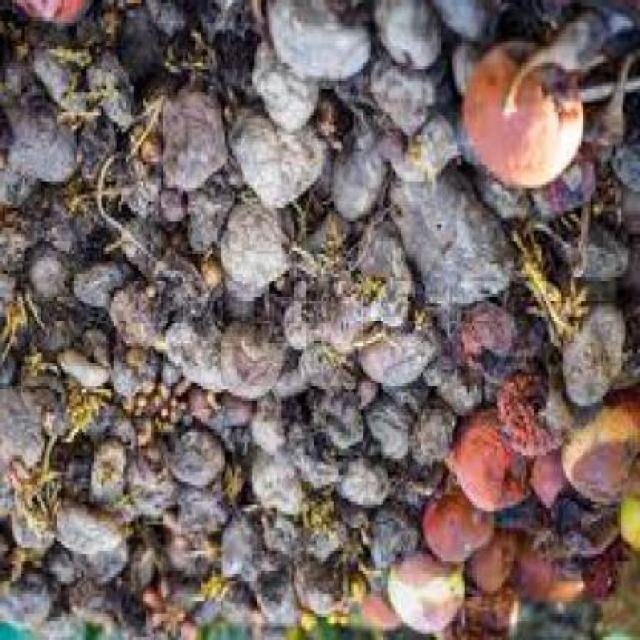BIODEGRADABLE: (1, 1, 638, 638), (388, 158, 514, 314), (466, 43, 586, 194), (502, 3, 638, 117), (227, 99, 328, 215), (452, 406, 534, 514), (516, 238, 596, 347), (269, 3, 374, 86), (124, 222, 210, 323), (563, 398, 639, 509), (218, 195, 300, 290), (160, 90, 232, 198), (358, 228, 428, 337), (2, 89, 80, 185), (390, 551, 470, 637), (462, 303, 548, 383), (287, 287, 381, 359), (373, 53, 450, 138), (257, 43, 321, 139), (3, 382, 49, 515), (566, 310, 628, 408), (583, 42, 639, 149), (336, 122, 393, 227), (529, 144, 600, 222), (502, 373, 563, 462), (428, 490, 497, 568), (32, 188, 99, 268), (361, 323, 442, 389), (517, 535, 591, 607), (35, 33, 94, 122), (86, 56, 143, 146), (165, 319, 230, 396), (222, 329, 287, 406), (551, 222, 632, 283), (393, 116, 464, 184), (378, 3, 445, 75), (22, 359, 75, 448), (3, 393, 49, 495), (68, 583, 150, 639), (553, 494, 621, 560), (2, 557, 60, 634), (126, 438, 179, 522), (360, 392, 415, 470), (428, 594, 523, 638), (210, 32, 262, 112), (109, 284, 168, 353), (254, 448, 312, 518), (124, 6, 168, 96), (422, 360, 490, 418), (54, 508, 128, 558), (165, 30, 221, 92), (173, 482, 230, 541), (175, 429, 232, 488), (27, 304, 82, 365), (225, 510, 268, 588), (188, 192, 237, 260), (316, 393, 372, 452), (292, 565, 348, 623), (371, 504, 420, 570), (417, 399, 460, 472), (81, 122, 124, 195), (84, 399, 139, 455), (72, 267, 136, 313), (294, 429, 346, 485), (479, 174, 535, 223), (336, 462, 389, 512), (255, 402, 307, 452), (469, 542, 522, 590), (28, 248, 74, 303), (586, 548, 634, 600), (254, 572, 297, 630), (48, 449, 94, 502), (79, 541, 132, 587), (265, 511, 309, 564), (94, 449, 131, 511), (67, 337, 111, 389), (610, 118, 638, 197), (304, 350, 356, 392), (165, 541, 218, 581), (2, 215, 40, 270), (47, 393, 84, 449), (116, 360, 161, 406), (15, 3, 94, 29), (144, 600, 198, 638), (2, 30, 30, 102), (133, 152, 165, 214), (15, 508, 58, 554), (450, 3, 496, 46), (198, 3, 247, 43), (308, 524, 352, 568), (499, 500, 548, 538), (66, 400, 106, 446), (302, 492, 342, 538), (537, 455, 571, 508), (339, 76, 373, 126), (2, 172, 40, 214), (366, 591, 403, 634), (150, 3, 184, 49), (2, 274, 30, 329), (222, 587, 260, 624), (44, 551, 74, 594), (358, 554, 388, 597), (200, 254, 228, 297), (2, 330, 22, 388), (131, 548, 155, 594), (277, 372, 309, 406), (210, 402, 255, 426), (168, 580, 202, 611), (38, 617, 88, 638), (624, 488, 638, 555), (341, 504, 372, 534), (230, 466, 247, 512), (163, 198, 188, 224), (141, 142, 165, 168), (361, 382, 381, 413), (200, 610, 225, 633), (562, 561, 583, 581), (354, 584, 371, 604), (331, 611, 351, 626), (306, 614, 319, 634)
